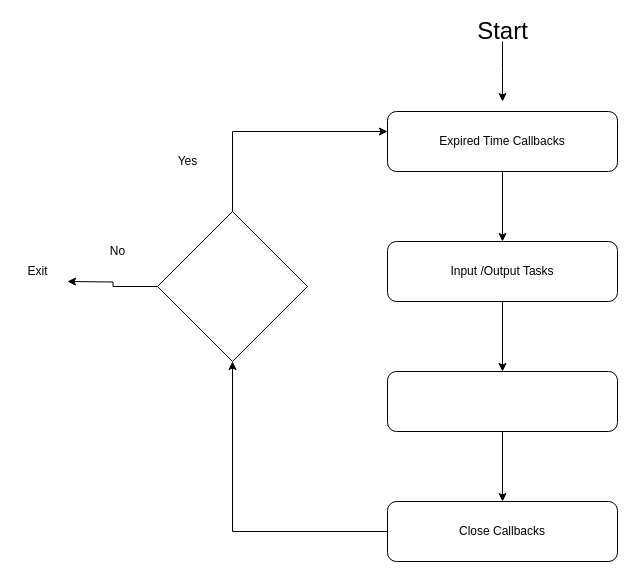
Image size: 635x579. Some labels were removed from this diagram. Each missing label, with the box of its shape:
Any Pending Timers or I/O Tasks?: (156, 210, 308, 362)
Set Immediate Callbacks: (386, 370, 618, 432)
